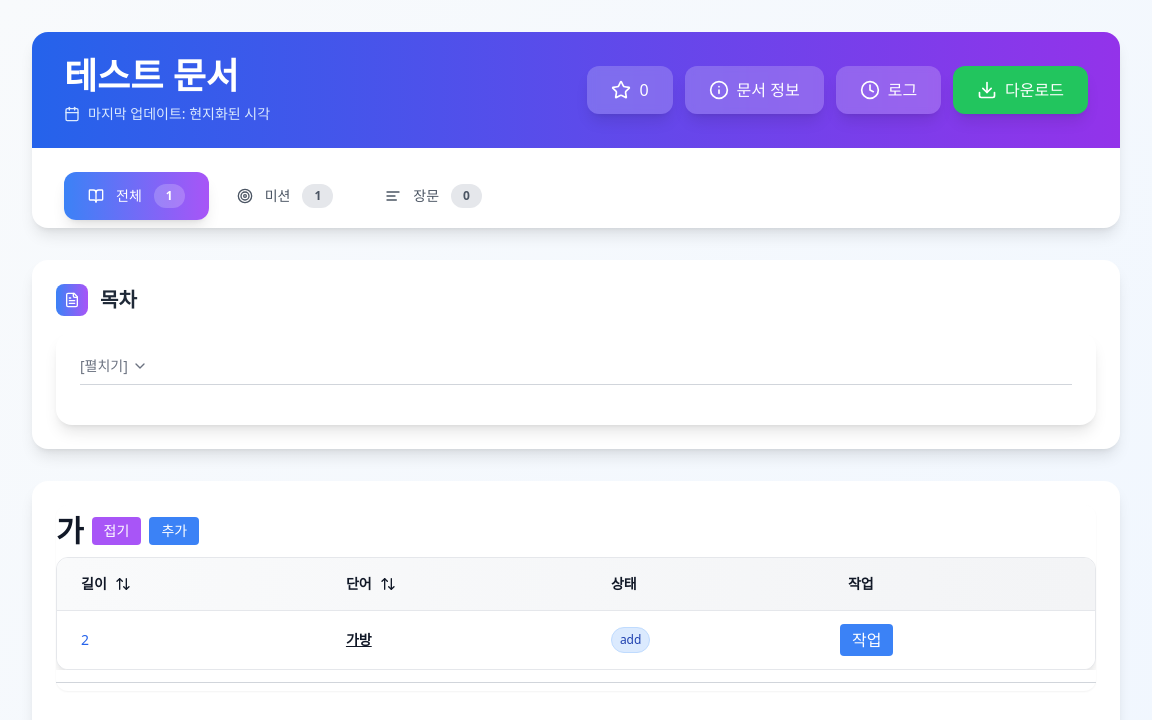
Test: DocsDataHome administrator removal completion integration › 관리자 action 완료 뒤 content snapshot을 다시 받아 표시한다
Click the button "작업".
click(867, 640)  # box [840,624,894,656]
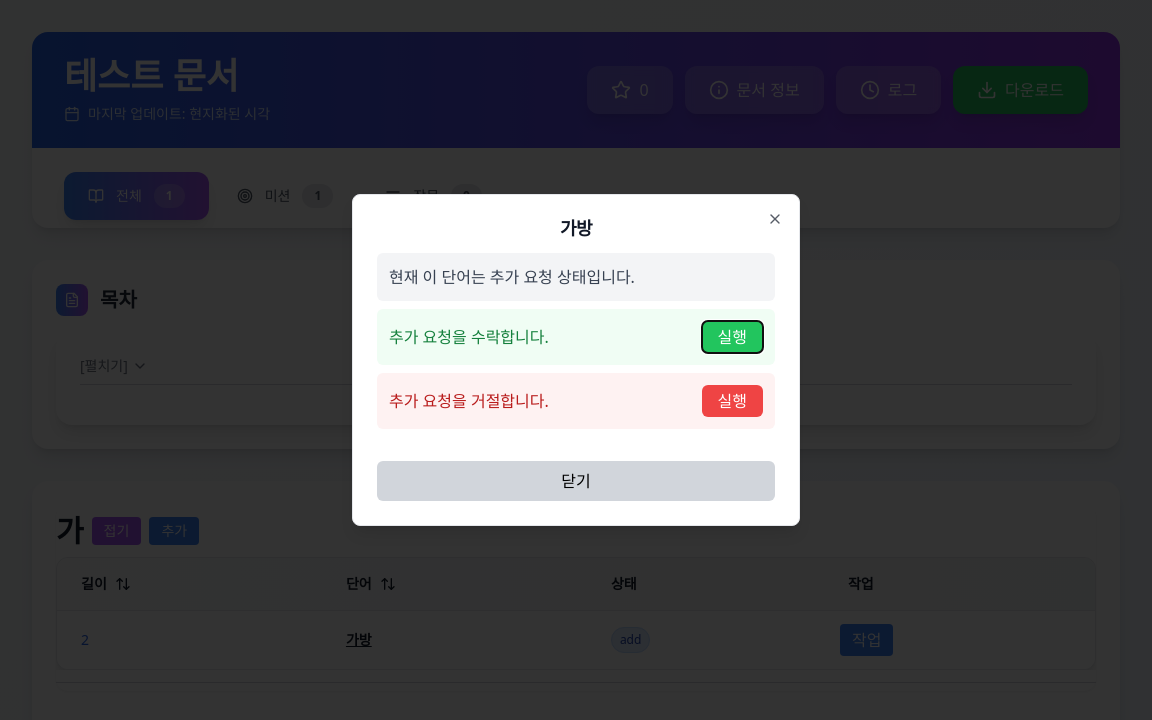
Click the button "실행" next to "추가 요청을 거절합니다.".
click(732, 401)  # box [702,385,763,417]
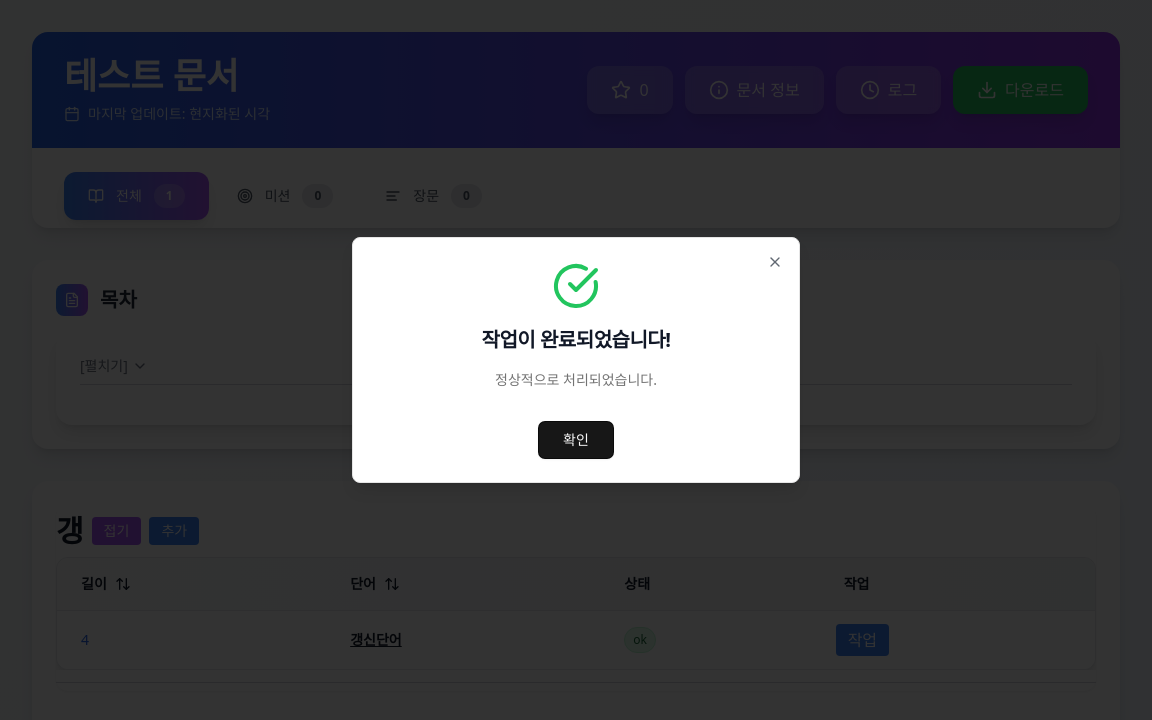
Expected: the link "갱신단어" is shown, [350,630,402,649]
